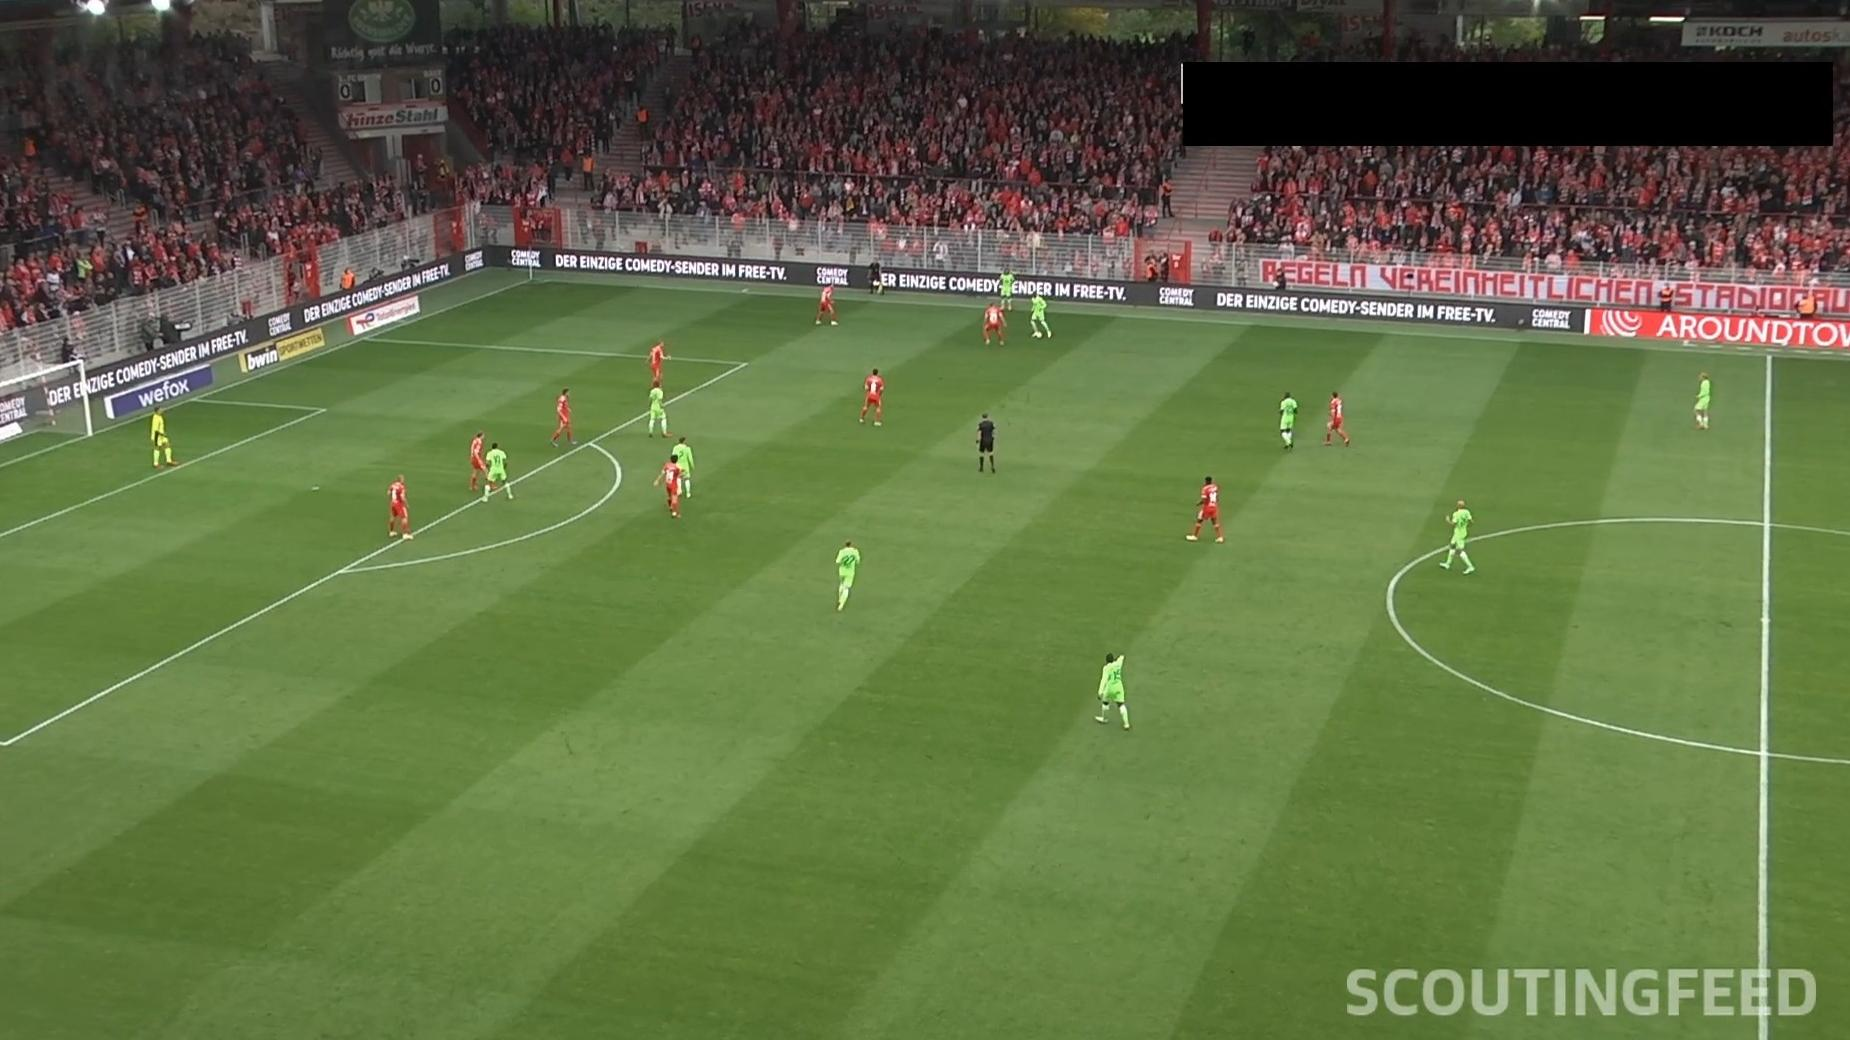ball: (1034, 331, 1043, 340)
